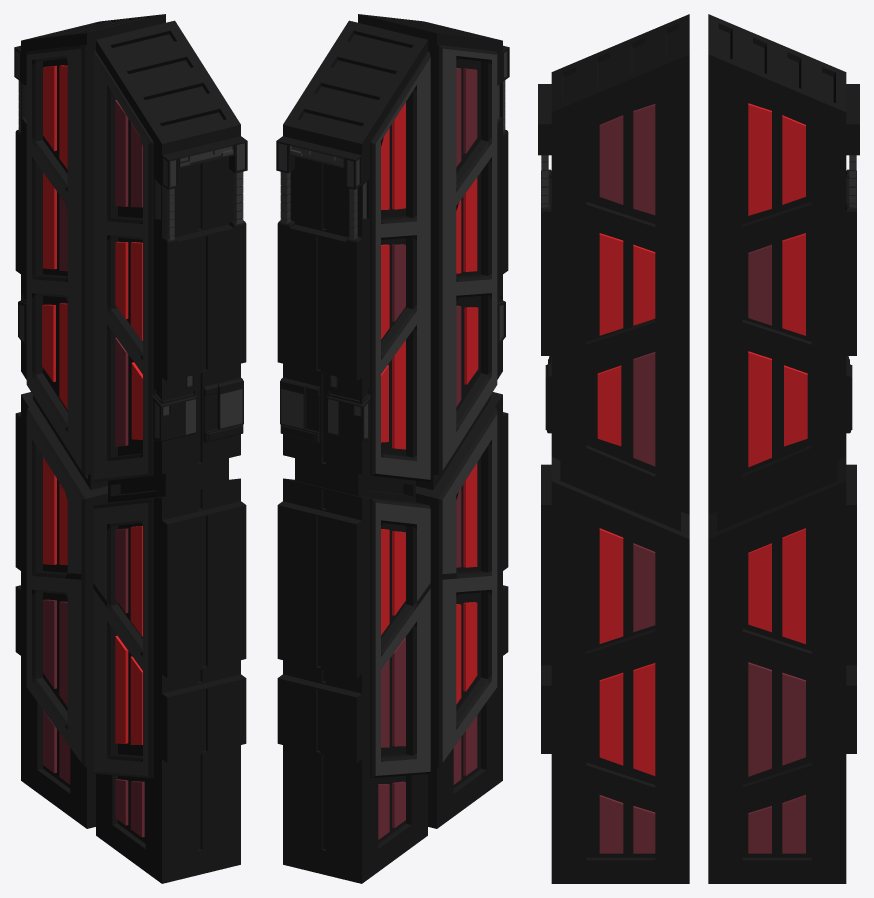
File: Building6.fbx
3 renders of one model, left to right at view 1: azimuth 30°, elevation 25°; view 2: azimuth 150°, elevation 25°; view 3: azimuth 270°, elevation 25°, orthographic. The views are drawn at different scales.
Parts seen in each view (by area): view 1: Edificio6.002, VentanasEdificio6; view 2: Edificio6.002, VentanasEdificio6; view 3: Edificio6.002, VentanasEdificio6.
Part boxes in pixels (x1,y1,x2,y2): Edificio6.002: (14,14,247,883); VentanasEdificio6: (42,65,144,837); Edificio6.002: (276,14,509,883); VentanasEdificio6: (378,68,478,839); Edificio6.002: (538,14,859,883); VentanasEdificio6: (597,103,807,853).
Bounding box in the file's own units: 5308 × 48565 × 17065.
